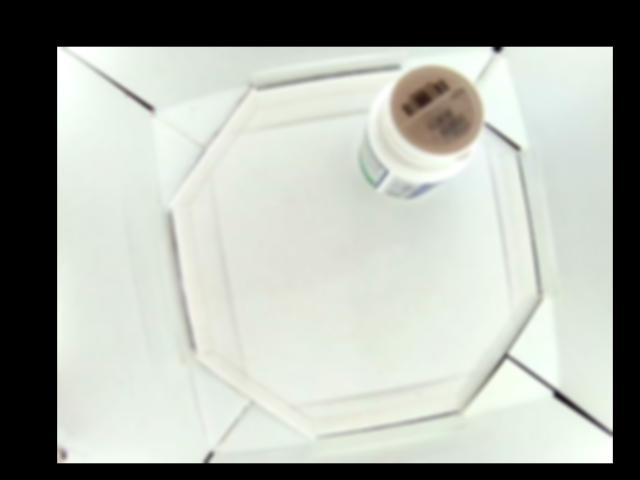Bottle: (356, 63, 484, 199)
